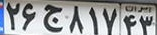character: (37, 1, 65, 35), (64, 1, 86, 35), (101, 1, 119, 35), (21, 1, 38, 35), (5, 1, 21, 34), (87, 1, 102, 35), (138, 12, 157, 34), (121, 12, 136, 34)
